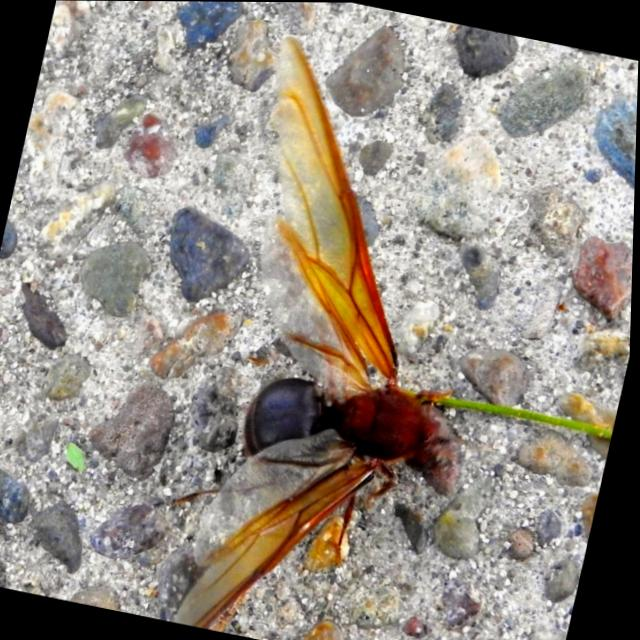Alive-Female-Alate: (151, 32, 545, 640)
